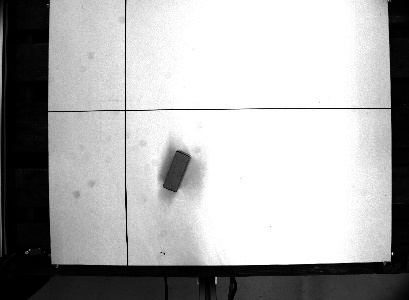b1: (160, 147, 193, 196)
